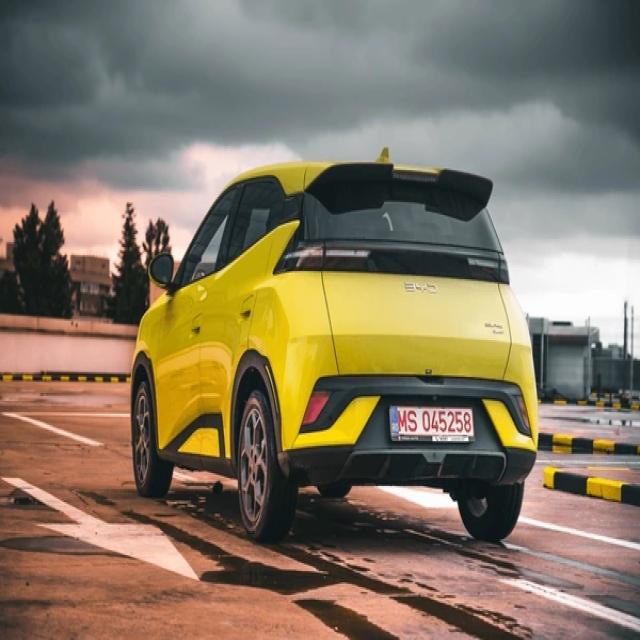byd: (399, 278, 443, 296)
